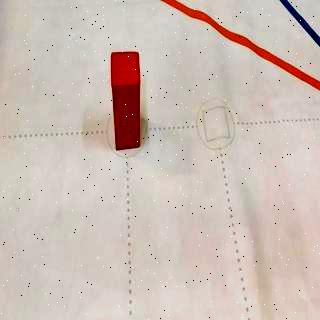redbox: (110, 50, 140, 152)
